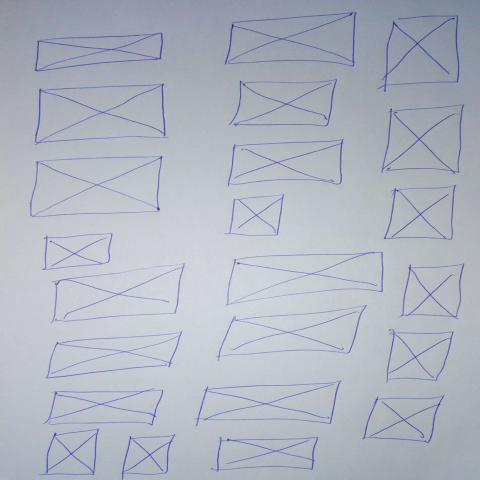Image: (225, 252, 386, 307), (28, 156, 165, 219), (216, 304, 369, 360), (34, 84, 167, 146), (223, 12, 359, 68), (52, 269, 189, 324), (45, 331, 184, 380), (195, 381, 342, 427), (379, 105, 467, 176), (381, 14, 461, 92), (227, 140, 346, 187), (228, 79, 339, 128), (35, 32, 165, 72), (43, 389, 166, 427), (362, 395, 446, 445), (383, 185, 457, 241), (398, 264, 467, 321), (385, 330, 455, 384), (212, 438, 318, 473), (41, 428, 100, 477), (41, 232, 113, 272), (225, 195, 286, 238), (121, 435, 176, 477)
